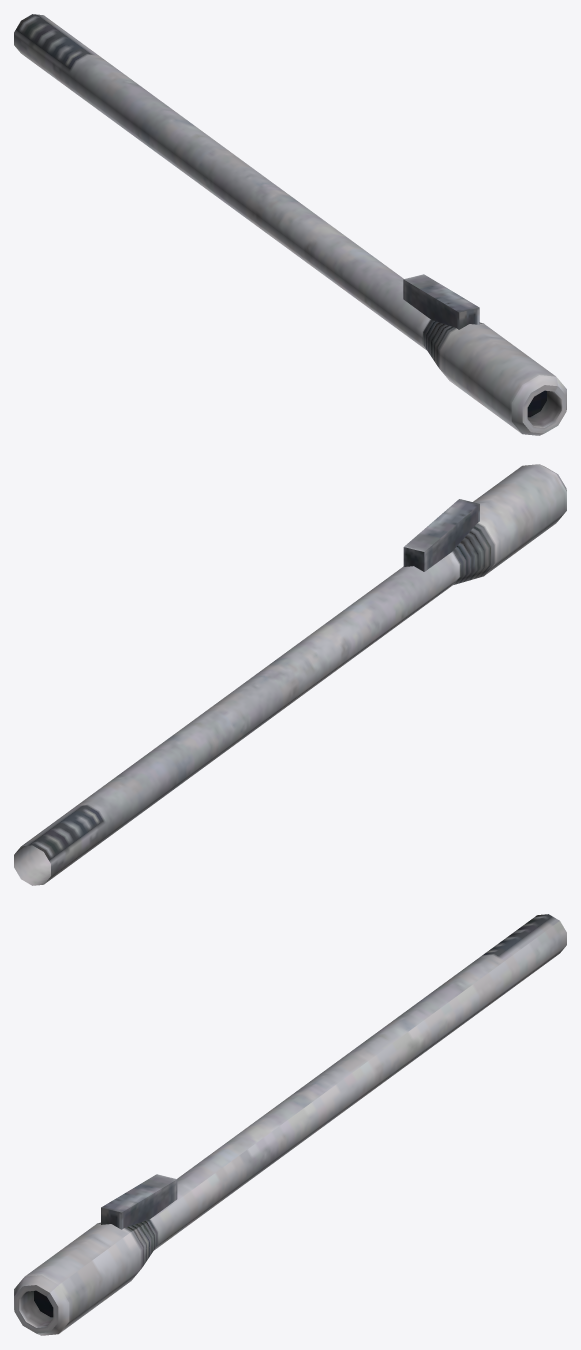
File: spacestation_turret_barrel02_s01_l0.fbx
3 views of the same model, one above another, from view 1: azimuth 30°, elevation 25°; view 2: azimuth 150°, elevation 25°; view 3: azimuth 330°, elevation 25° (orthographic).
Visible parts, largest first — view 1: mesh_node; view 2: mesh_node; view 3: mesh_node.
Part boxes in pixels (x1,y1,x2,y2): mesh_node: (14, 14, 566, 435); mesh_node: (14, 464, 566, 885); mesh_node: (14, 914, 566, 1335).
Size of the model in its own units: 0.5408 by 0.6981 by 8.68.
